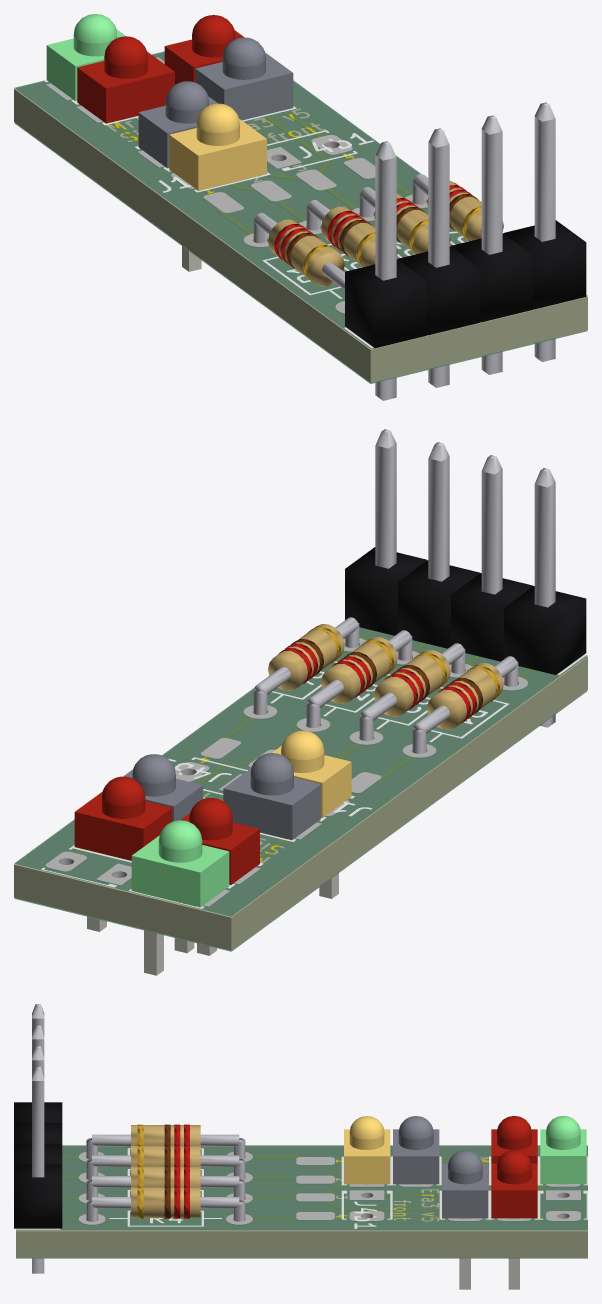
File: MrJ-DB-Era3-breadboard-exit-Hp2.glb
The picture shows the model from 3 angles, top to bottom: view 1: azimuth 30°, elevation 25°; view 2: azimuth 150°, elevation 25°; view 3: azimuth 270°, elevation 25°; orthographic projection. The views are drawn at different scales.
Parts seen in each view (by area): view 1: =>[0:1:1:19], =>[0:1:1:3] (×4), =>[0:1:1:17], =>[0:1:1:5] (×4), =>[0:1:1:13] (×2), =>[0:1:1:7] (×2), =>[0:1:1:11], =>[0:1:1:15], =>[0:1:1:9], =>[0:1:1:16], =>[0:1:1:14], =>[0:1:1:18]; view 2: =>[0:1:1:19], =>[0:1:1:3] (×4), =>[0:1:1:17], =>[0:1:1:5] (×4), =>[0:1:1:7] (×2), =>[0:1:1:13] (×2), =>[0:1:1:9], =>[0:1:1:15], =>[0:1:1:11], =>[0:1:1:16], =>[0:1:1:14], =>[0:1:1:18]; view 3: =>[0:1:1:19], =>[0:1:1:17], =>[0:1:1:5] (×4), =>[0:1:1:3] (×4), =>[0:1:1:13] (×2), =>[0:1:1:7] (×2), =>[0:1:1:15], =>[0:1:1:11], =>[0:1:1:9], =>[0:1:1:16], =>[0:1:1:18], =>[0:1:1:14].
Boxes of the visible parts, box(x1,y1,x2,y2) form: =>[0:1:1:19]: box(14, 53, 587, 382); =>[0:1:1:3] (×4): box(345, 102, 586, 400); =>[0:1:1:17]: box(14, 51, 587, 348); =>[0:1:1:5] (×4): box(253, 174, 503, 289); =>[0:1:1:13] (×2): box(138, 37, 293, 168); =>[0:1:1:7] (×2): box(77, 15, 243, 123); =>[0:1:1:11]: box(169, 103, 266, 271); =>[0:1:1:15]: box(46, 57, 427, 313); =>[0:1:1:9]: box(46, 14, 125, 100); =>[0:1:1:16]: box(43, 50, 586, 347); =>[0:1:1:14]: box(112, 111, 412, 234); =>[0:1:1:18]: box(14, 123, 587, 383); =>[0:1:1:19]: box(14, 628, 587, 950); =>[0:1:1:3] (×4): box(345, 429, 586, 727); =>[0:1:1:17]: box(14, 627, 587, 916); =>[0:1:1:5] (×4): box(253, 617, 518, 753); =>[0:1:1:7] (×2): box(74, 776, 259, 953); =>[0:1:1:13] (×2): box(123, 753, 320, 839); =>[0:1:1:9]: box(131, 820, 229, 975); =>[0:1:1:15]: box(45, 638, 528, 906); =>[0:1:1:11]: box(272, 730, 351, 898); =>[0:1:1:16]: box(41, 654, 586, 908); =>[0:1:1:14]: box(75, 630, 532, 860); =>[0:1:1:18]: box(14, 690, 587, 951); =>[0:1:1:19]: box(16, 1147, 587, 1257); =>[0:1:1:17]: box(16, 1145, 587, 1230); =>[0:1:1:5] (×4): box(86, 1124, 245, 1221); =>[0:1:1:3] (×4): box(14, 1004, 62, 1273); =>[0:1:1:13] (×2): box(393, 1116, 488, 1289); =>[0:1:1:7] (×2): box(491, 1116, 537, 1289); =>[0:1:1:15]: box(78, 1152, 580, 1224); =>[0:1:1:11]: box(344, 1116, 390, 1184); =>[0:1:1:9]: box(540, 1116, 586, 1184); =>[0:1:1:16]: box(16, 1148, 587, 1229); =>[0:1:1:18]: box(16, 1257, 587, 1258); =>[0:1:1:14]: box(63, 1156, 546, 1220).
Bounding box in the file's own units: 0.0104 × 0.0127 × 0.0297.
